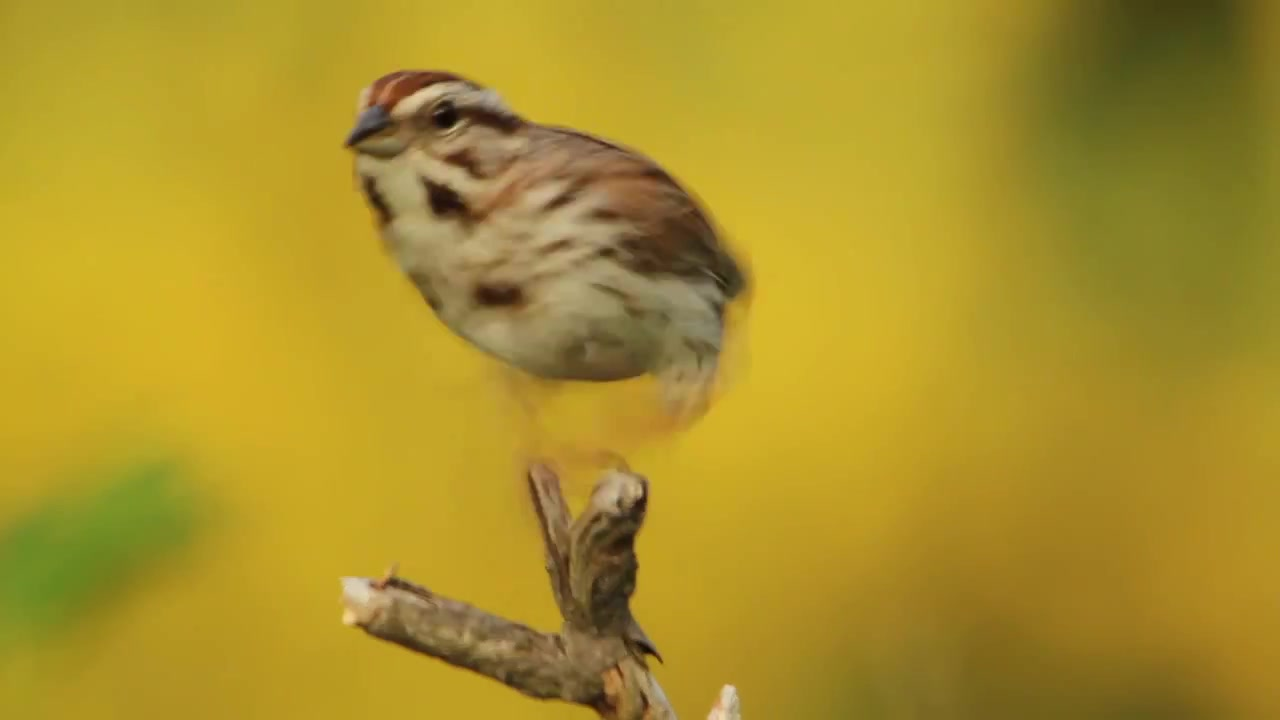bird: (336, 69, 754, 500)
